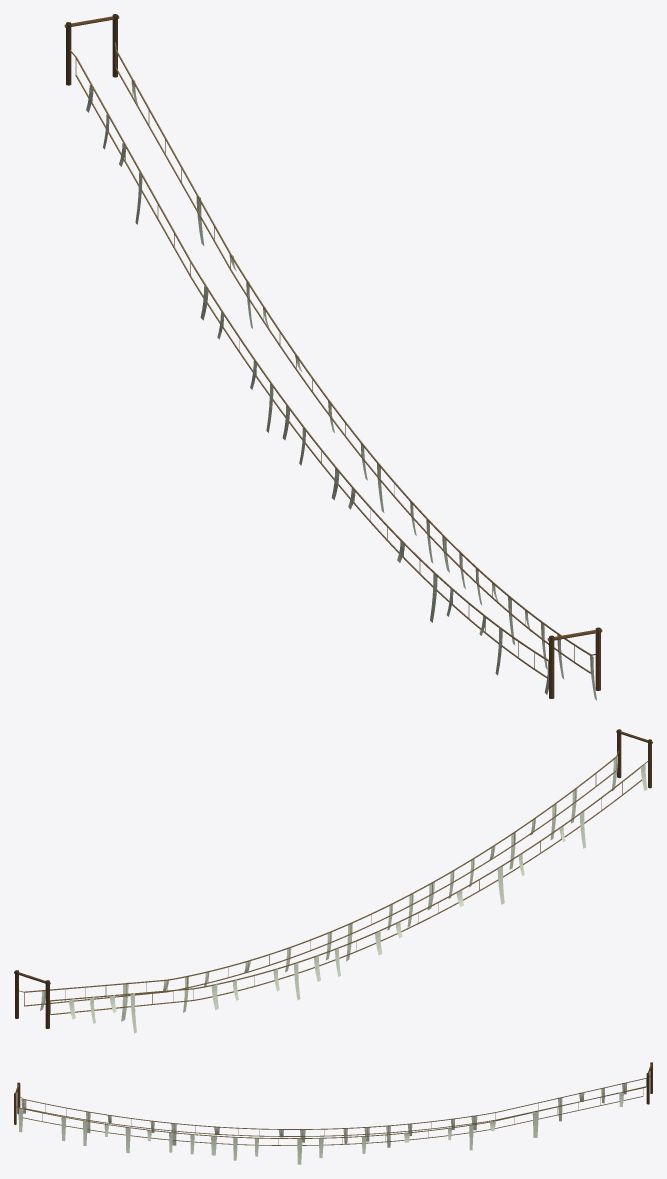
The model's file is SM_Bridge_06_07_Rails.fbx.
3 views of the same model, one above another, from view 1: azimuth 30°, elevation 25°; view 2: azimuth 150°, elevation 25°; view 3: azimuth 270°, elevation 25° (orthographic). The views are drawn at different scales.
Parts seen in each view (by area): view 1: SM_Bridge_06_07_Rails; view 2: SM_Bridge_06_07_Rails; view 3: SM_Bridge_06_07_Rails.
Part boxes in pixels (left/top/right/bottom): SM_Bridge_06_07_Rails: left=64, top=14, right=602, bottom=700; SM_Bridge_06_07_Rails: left=14, top=729, right=652, bottom=1033; SM_Bridge_06_07_Rails: left=14, top=1062, right=652, bottom=1164.
Bounding box in the file's own units: 12.8 × 13.6 × 70.94.
